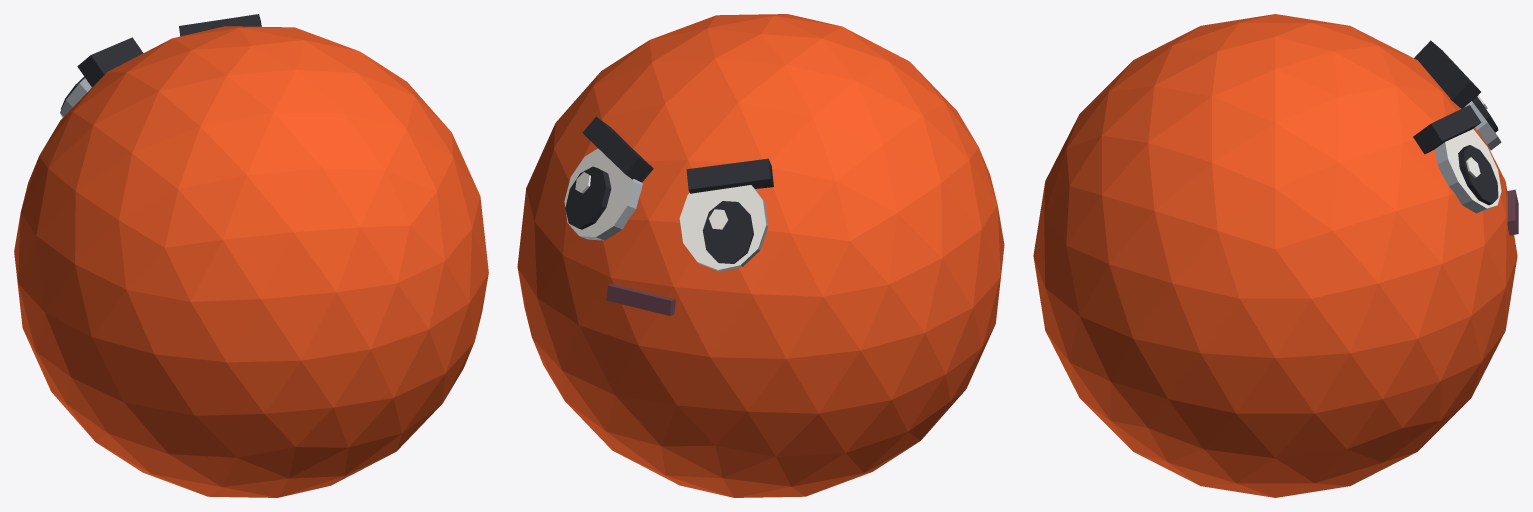
File: CH_Topik_T3.fbx
The picture shows the model from 3 angles, left to right: view 1: azimuth 30°, elevation 25°; view 2: azimuth 150°, elevation 25°; view 3: azimuth 270°, elevation 25°; orthographic projection. The views are drawn at different scales.
Parts seen in each view (by area): view 1: CH_Topik_T3; view 2: CH_Topik_T3; view 3: CH_Topik_T3.
Boxes of the visible parts, left/top/right/bottom form: CH_Topik_T3: left=14, top=14, right=488, bottom=497; CH_Topik_T3: left=517, top=14, right=1004, bottom=497; CH_Topik_T3: left=1033, top=14, right=1518, bottom=497.
Bounding box in the file's own units: 1 × 1 × 1.
